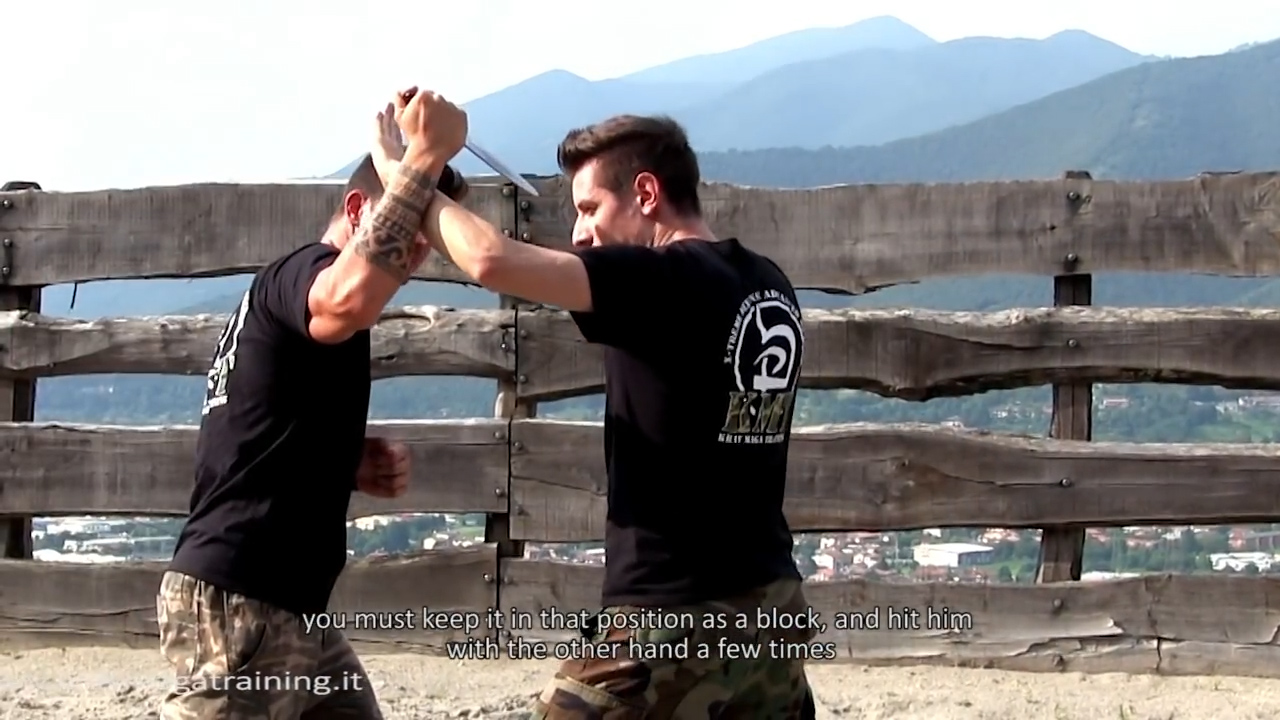knife: (393, 80, 545, 207)
